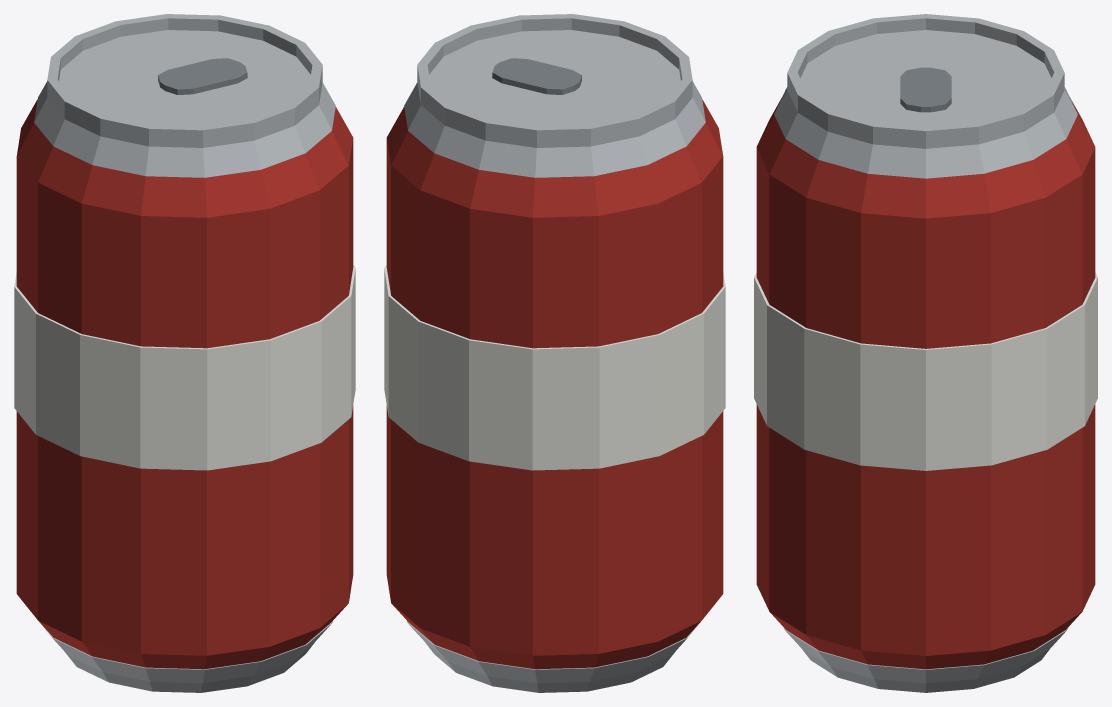
File: soda.glb
3 renders of one model, left to right at view 1: azimuth 30°, elevation 25°; view 2: azimuth 150°, elevation 25°; view 3: azimuth 270°, elevation 25°, orthographic.
Visible parts, largest first — view 1: can, band, top, bottom, tab; view 2: can, band, top, bottom, tab; view 3: can, band, top, bottom, tab.
Part boxes in pixels (bbox=[...]): can: bbox=[16, 99, 353, 669]; band: bbox=[14, 265, 355, 470]; top: bbox=[34, 14, 335, 177]; bottom: bbox=[41, 620, 333, 692]; tab: bbox=[158, 58, 247, 94]; can: bbox=[386, 99, 723, 669]; band: bbox=[384, 265, 725, 470]; top: bbox=[404, 14, 705, 177]; bottom: bbox=[406, 620, 698, 692]; tab: bbox=[492, 58, 581, 94]; can: bbox=[756, 98, 1095, 669]; band: bbox=[754, 272, 1097, 470]; top: bbox=[774, 14, 1077, 178]; bottom: bbox=[783, 627, 1068, 692]; tab: bbox=[900, 67, 951, 112].
Size of the model in its own units: 0.067 by 0.122 by 0.067.
4 materials, 4 textured.
